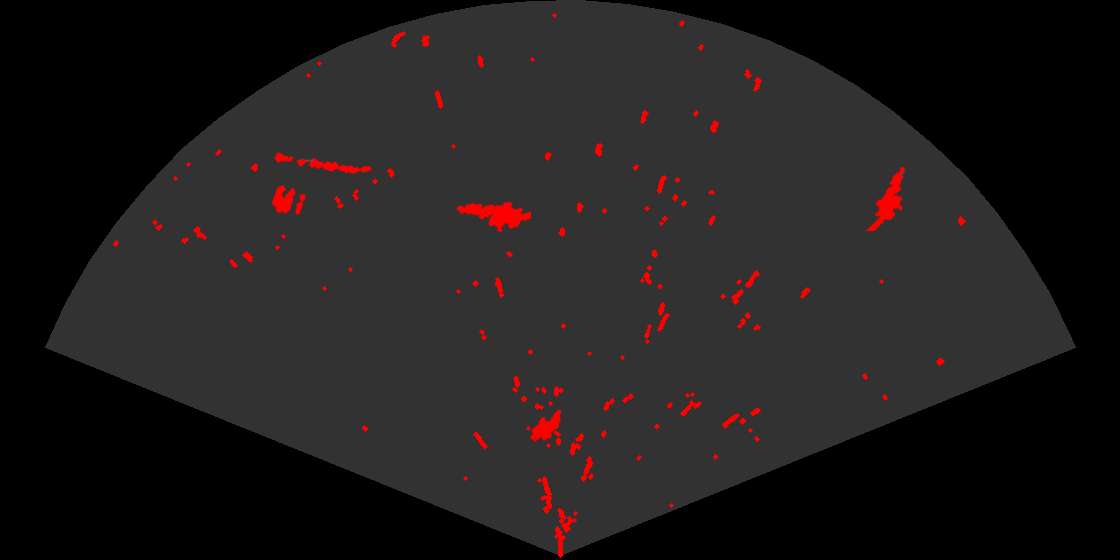AUV: (528, 408, 563, 443)
ball: (270, 183, 307, 216)
chain: (272, 151, 373, 175)
frogman: (864, 165, 907, 231), (455, 200, 531, 234)
